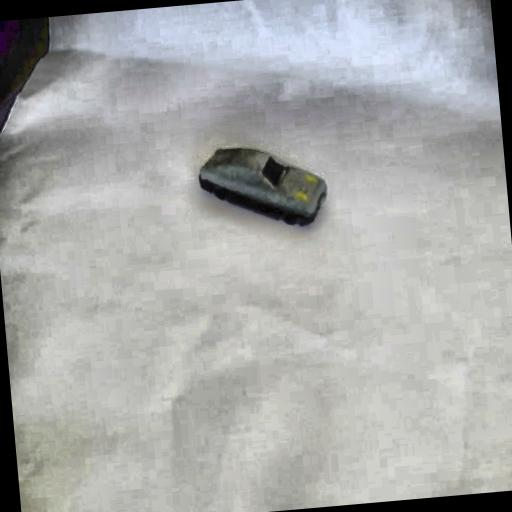normal_car: (192, 135, 330, 238)
